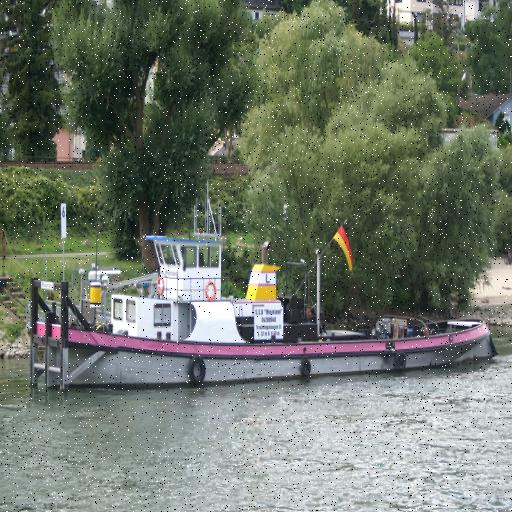tugboat: (23, 180, 503, 412)
